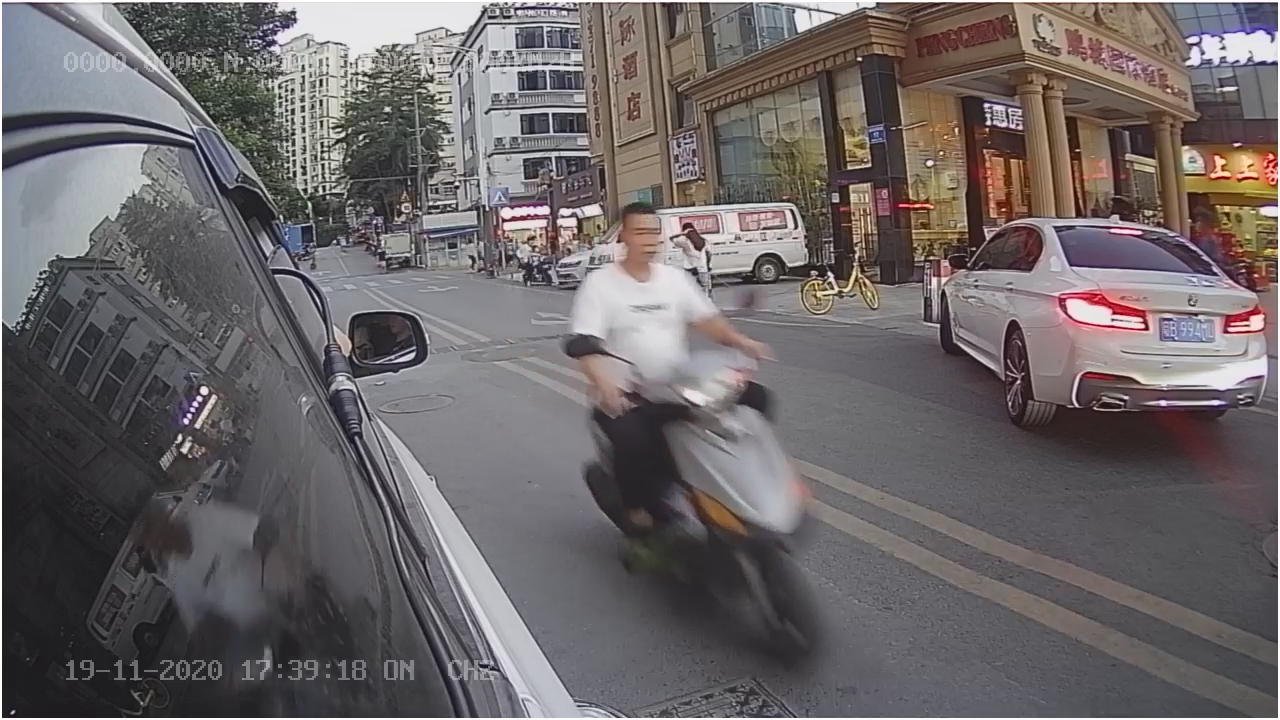person: (571, 205, 720, 407)
